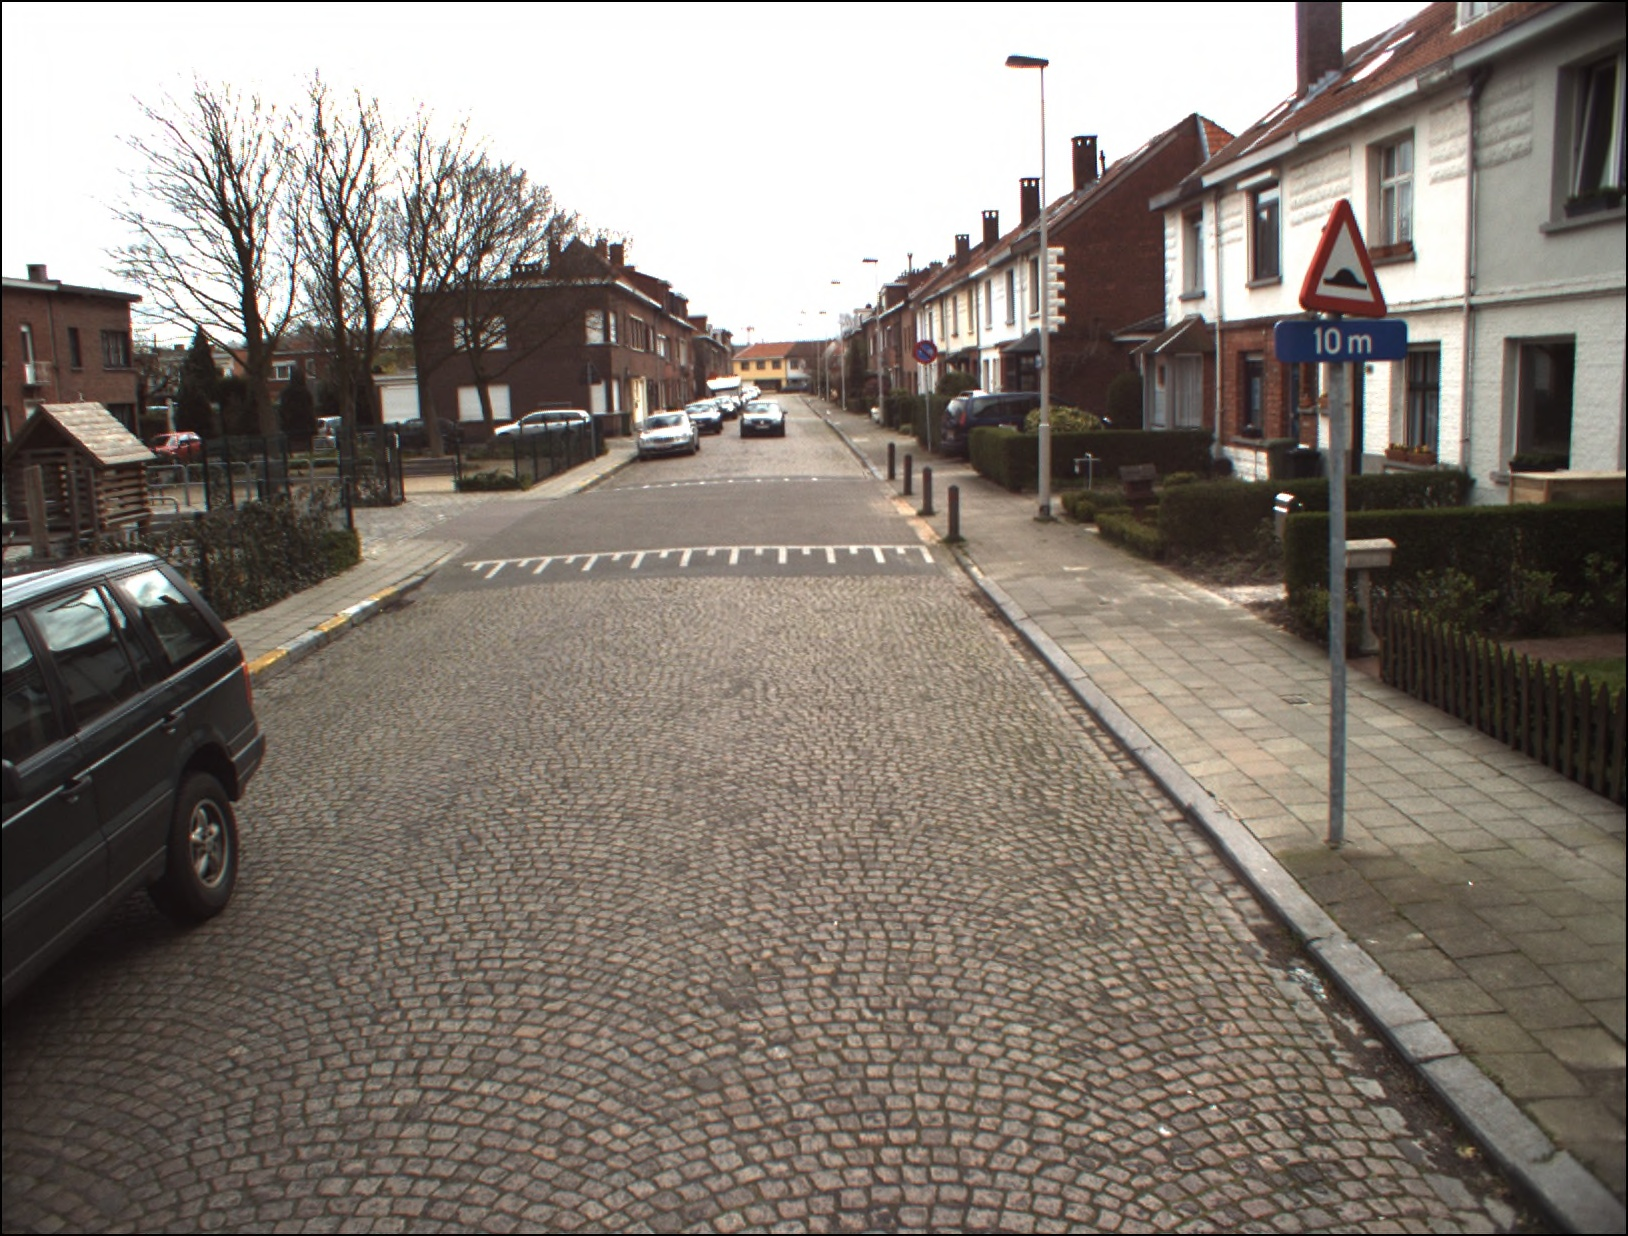speedbump: (1310, 200, 1384, 315)
